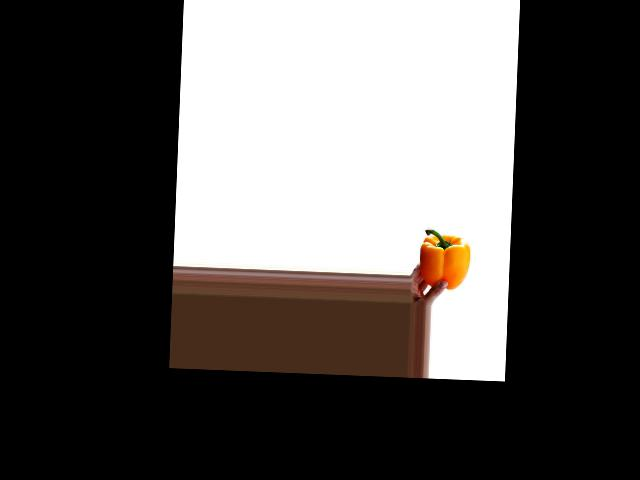bell_pepper: (419, 226, 472, 291)
